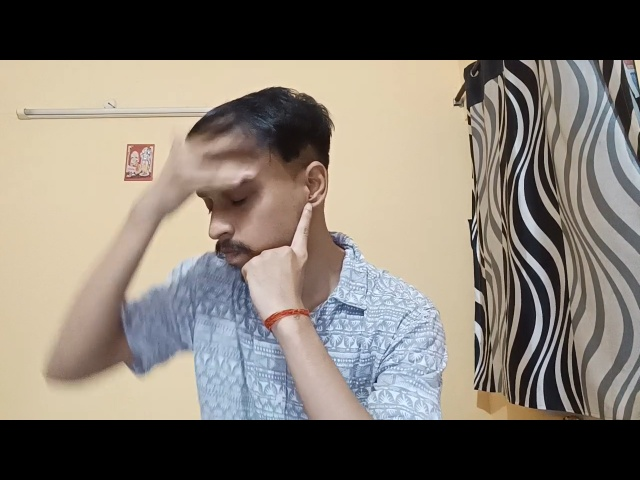Deaf: (260, 158, 362, 302)
